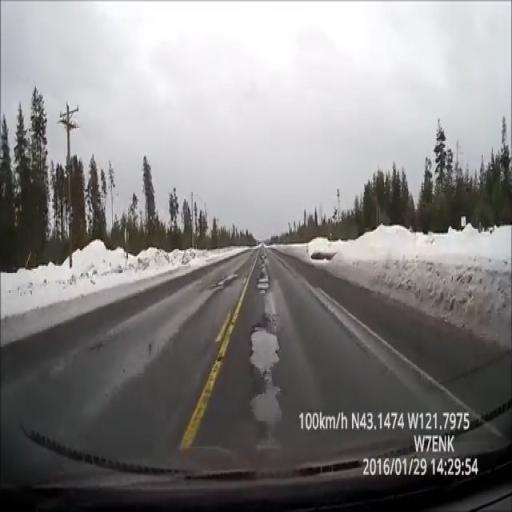Potholes: (250, 314, 292, 431), (257, 256, 269, 293)
